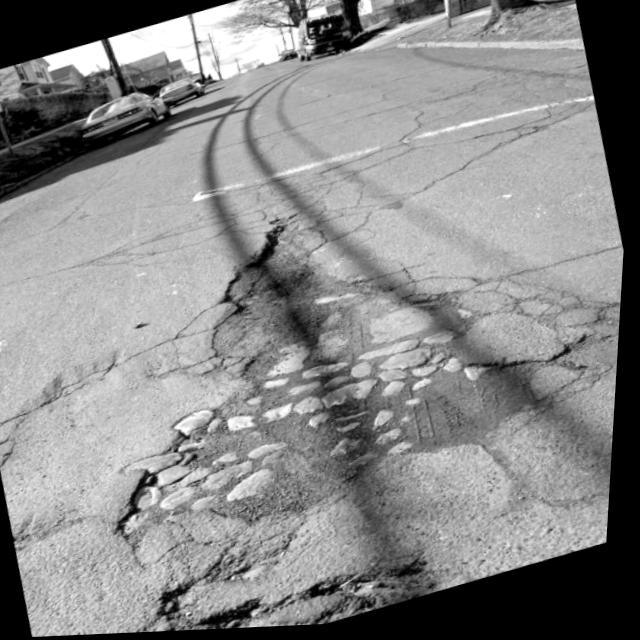pathole: (128, 203, 623, 633)
